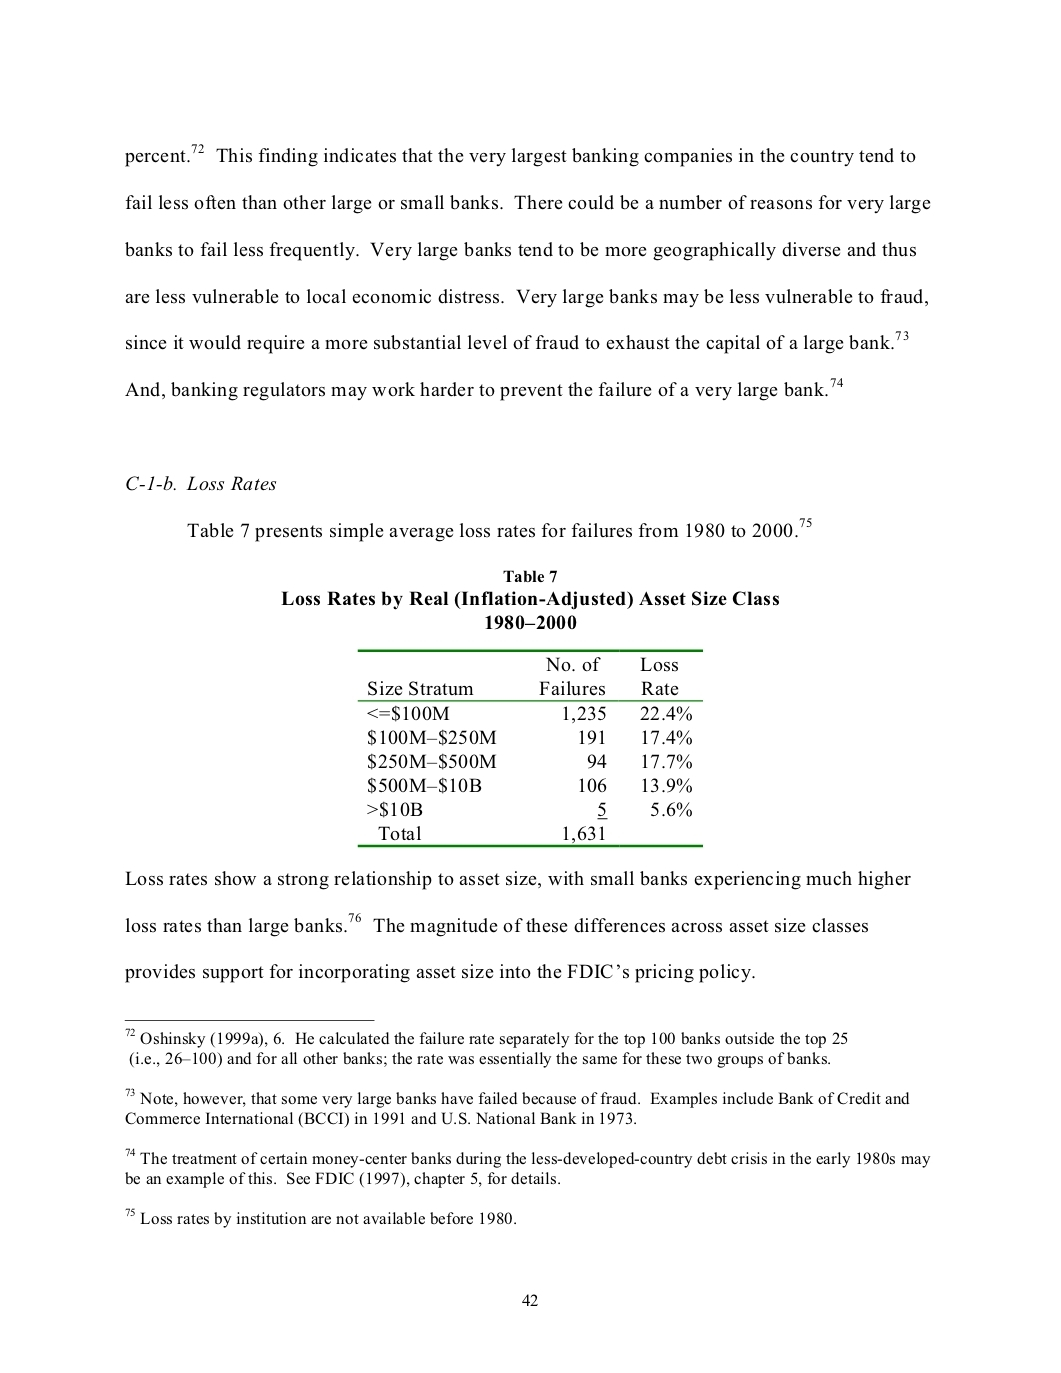Table: (357, 649, 703, 847)
